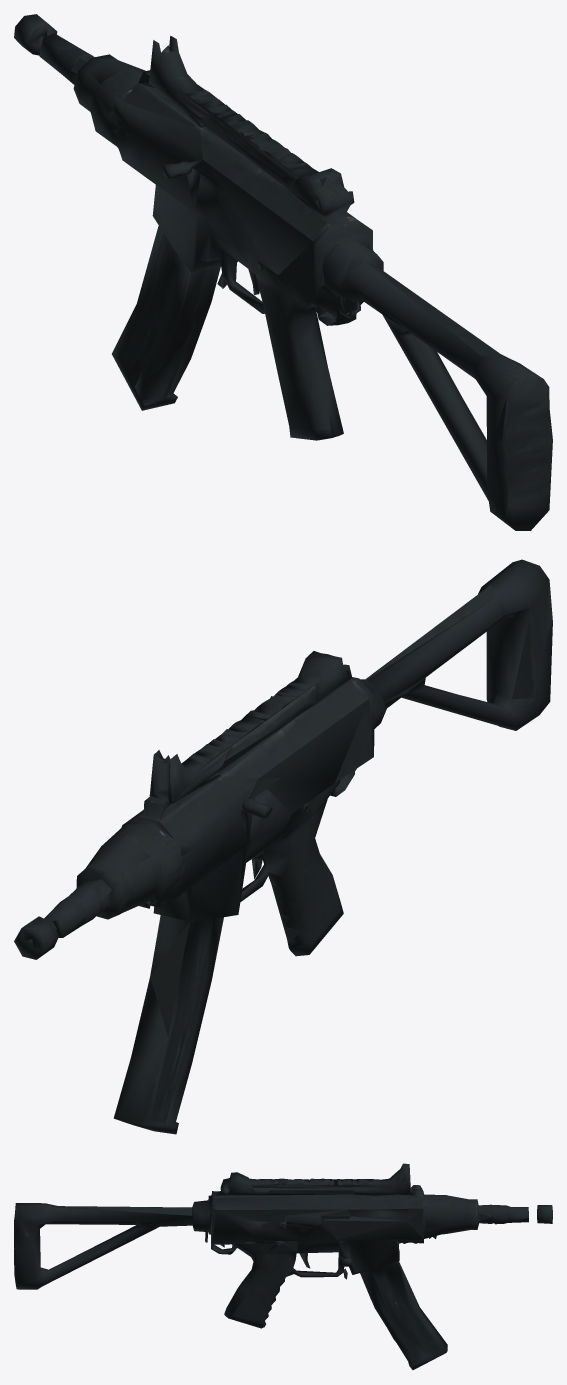
The model's file is smg_wren.lod1.glb.
The picture shows the model from 3 angles, top to bottom: view 1: azimuth 30°, elevation 25°; view 2: azimuth 150°, elevation 25°; view 3: azimuth 270°, elevation 25°; orthographic projection. The views are drawn at different scales.
Parts seen in each view (by area): view 1: smg_wren; view 2: smg_wren; view 3: smg_wren.
Boxes of the visible parts, bbox=[...] form: smg_wren: bbox=[14, 14, 552, 530]; smg_wren: bbox=[14, 559, 552, 1134]; smg_wren: bbox=[14, 1163, 552, 1369].
Size of the model in its own units: 0.0717 by 0.2707 by 0.6596.
1 material, 1 textured.
